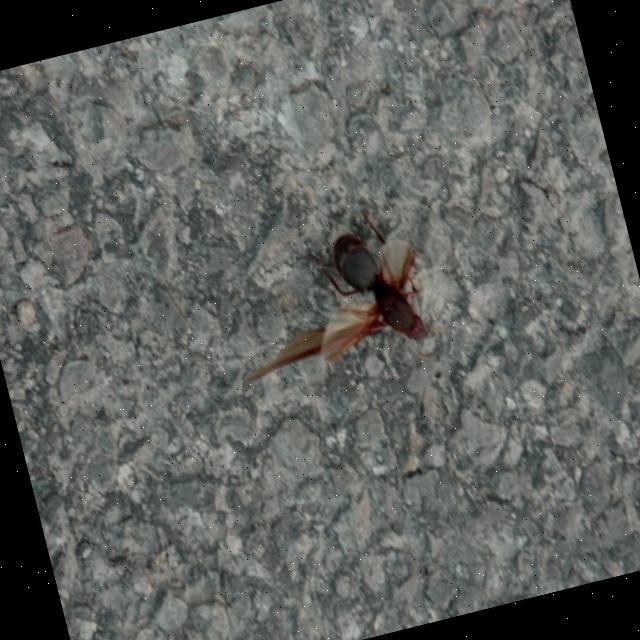Alive-Female-Alate: (208, 195, 451, 402)
